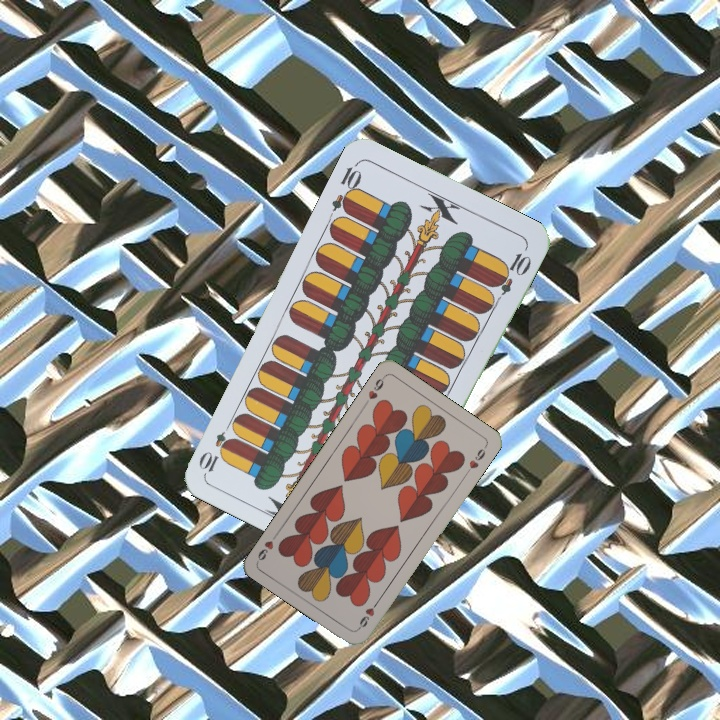E10: (327, 158, 365, 216)
H9: (353, 596, 382, 632), (360, 372, 388, 408)
